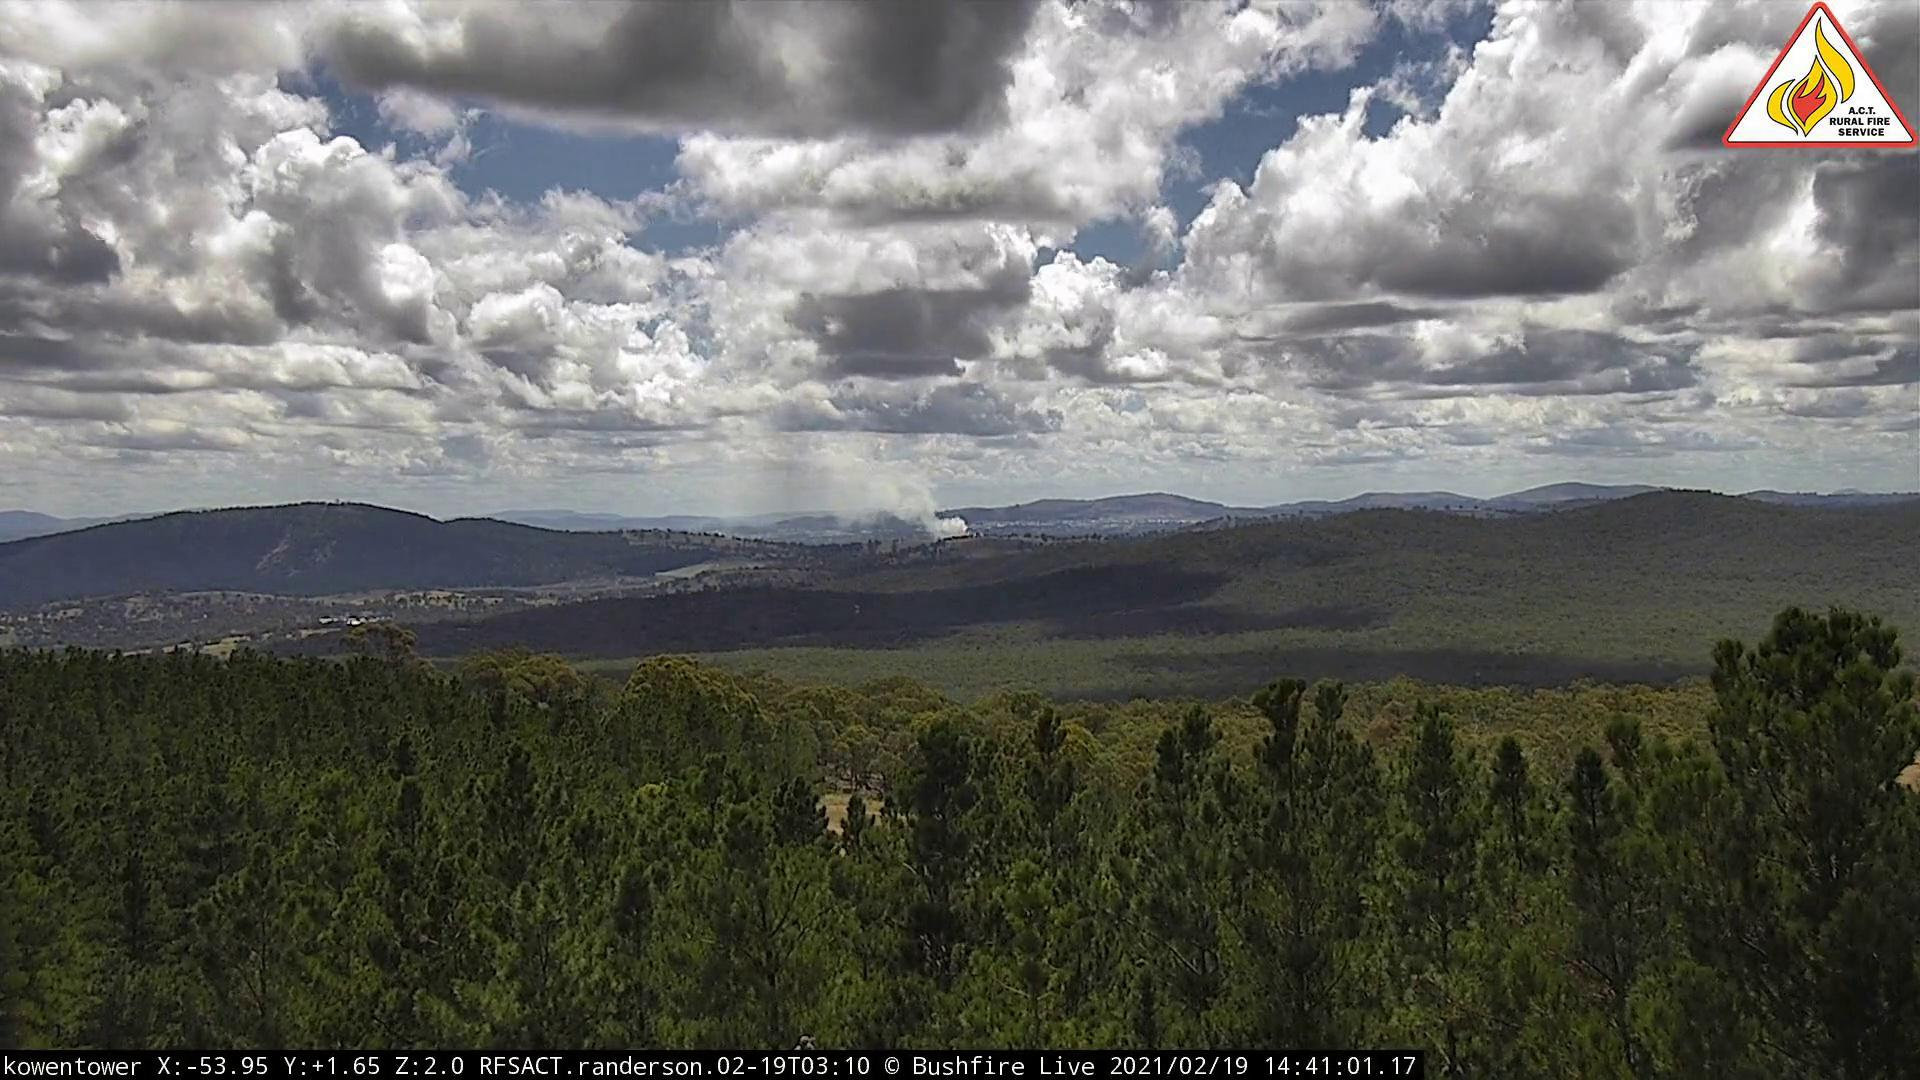Smoke: (760, 436, 978, 551)
